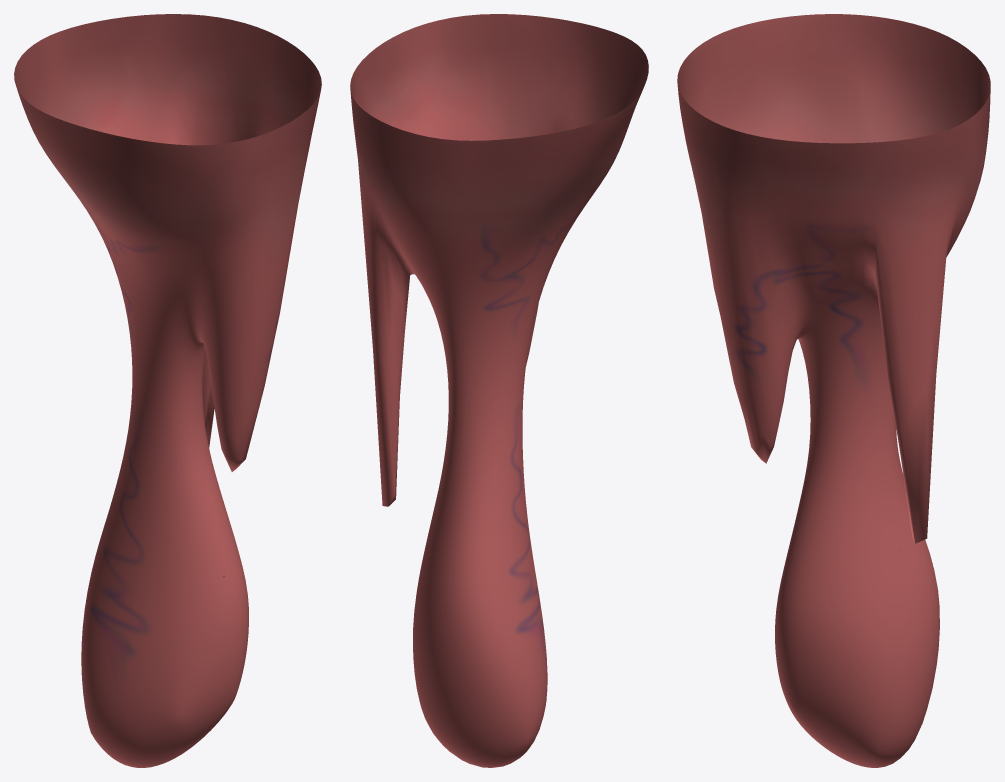
File: cave_drop.fbx
3 views of the same model, side by side, from view 1: azimuth 30°, elevation 25°; view 2: azimuth 150°, elevation 25°; view 3: azimuth 270°, elevation 25° (orthographic). The views are drawn at different scales.
Visible parts, largest first — view 1: cave_drop; view 2: cave_drop; view 3: cave_drop.
Boxes of the visible parts, x1,y1,x2,y2 form: cave_drop: (14,14,321,767); cave_drop: (350,14,648,767); cave_drop: (677,14,990,767).
Size of the model in its own units: 57.24 by 147 by 60.46.
1 material, 1 textured.
